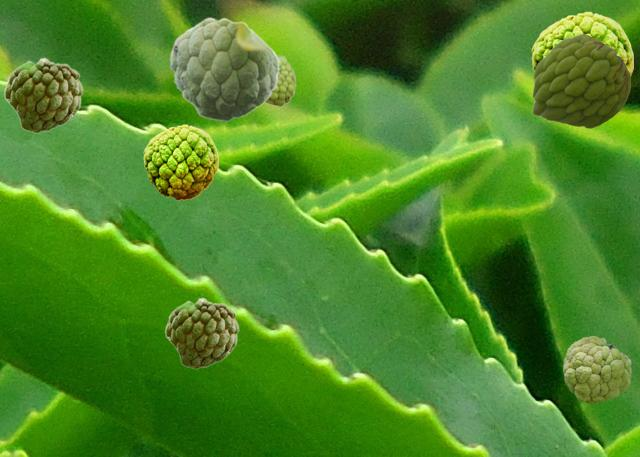atis: (169, 17, 279, 120), (532, 34, 629, 127), (531, 11, 632, 78), (3, 57, 82, 132), (143, 124, 217, 199), (164, 297, 238, 368), (563, 336, 630, 402), (265, 54, 295, 106)
